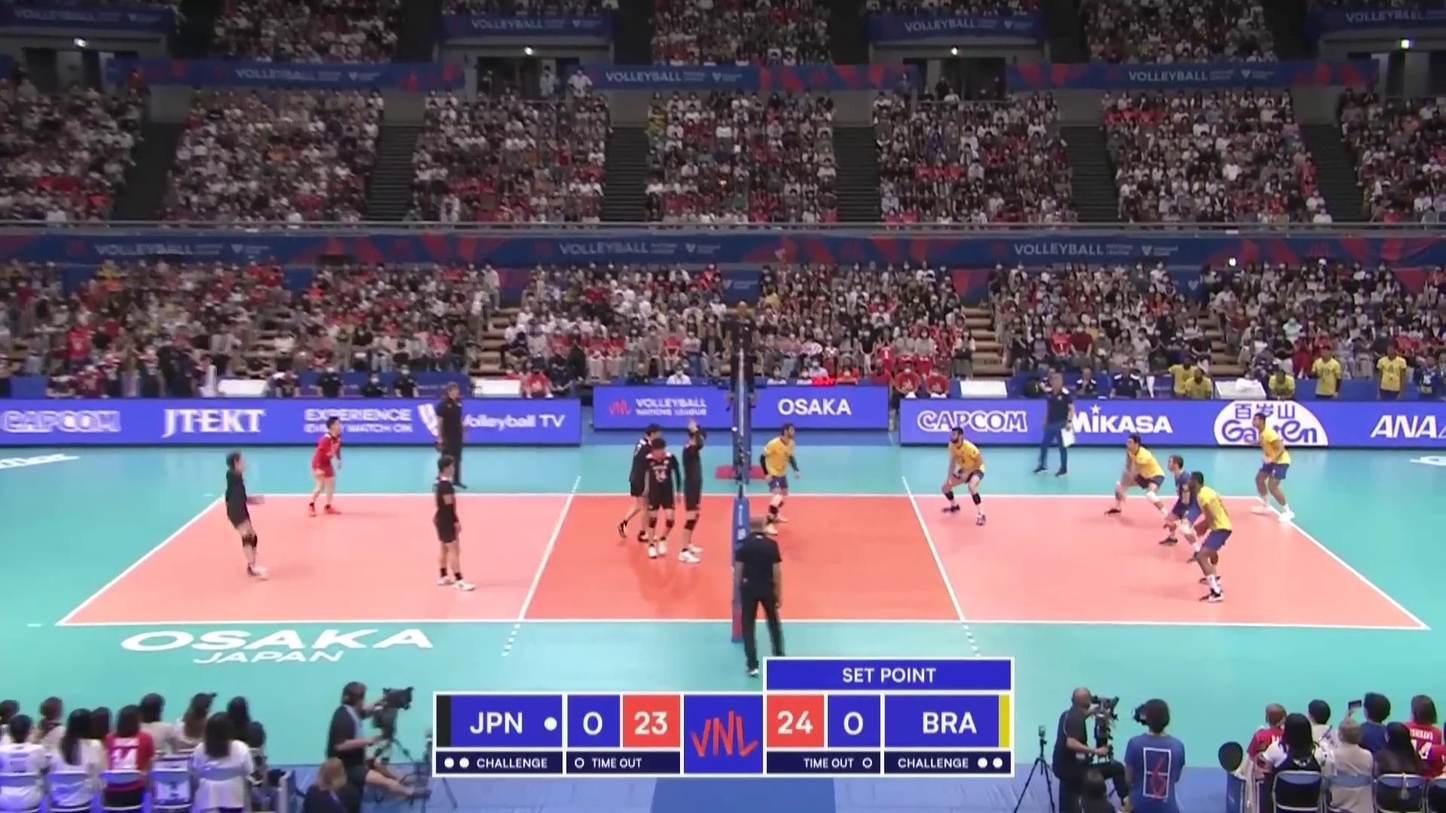player: (432, 456, 478, 591), (221, 449, 269, 578), (1187, 476, 1234, 603), (617, 423, 663, 544), (1107, 436, 1169, 522), (640, 439, 680, 560), (759, 424, 802, 535), (1159, 454, 1203, 561), (1252, 412, 1293, 521), (942, 429, 987, 524), (680, 418, 708, 566), (306, 417, 343, 518)
refree: (734, 516, 789, 677), (725, 297, 758, 404)
